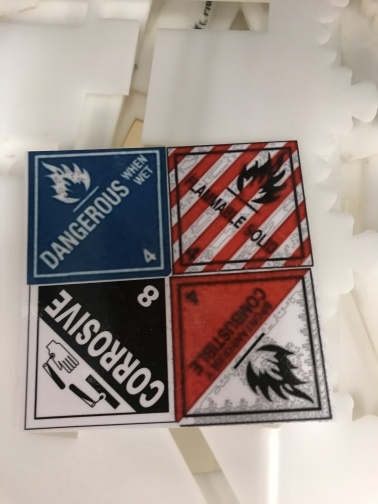Corrosive: (25, 277, 176, 426)
DangerousWhenWet: (24, 147, 172, 285)
FlammableSolid: (167, 140, 314, 276)
SpontaneouslyCombustible: (169, 269, 333, 420)
